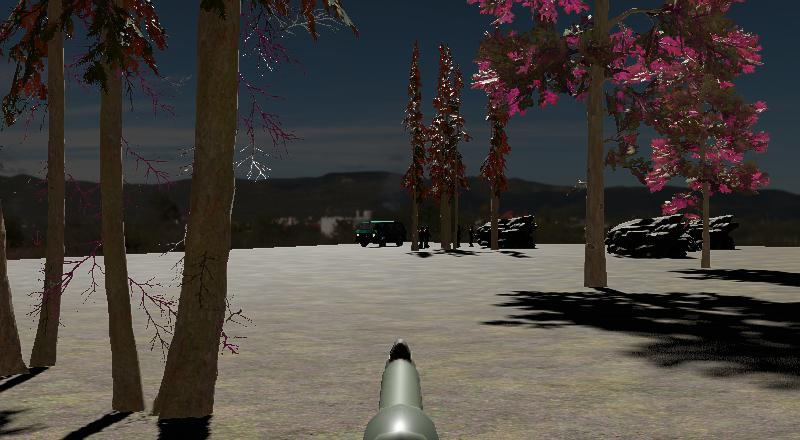car: (353, 218, 408, 248)
